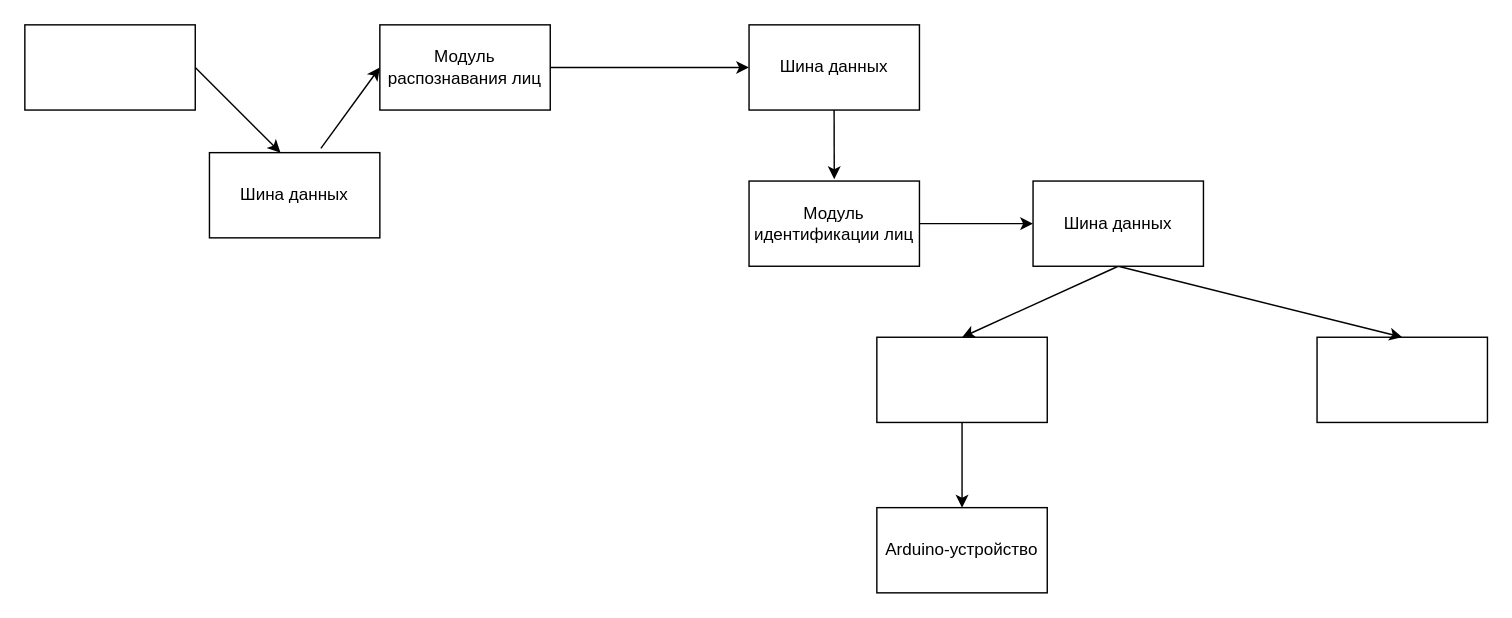
This 1512x618 diagram has some shape labels left out. The centre of each missing label's shape, as x and y in pixels:
Модуль захвата с видеокамеры: [109,66]
Модуль открывания двери: [961,379]
Модуль управления освщением: [1401,379]
